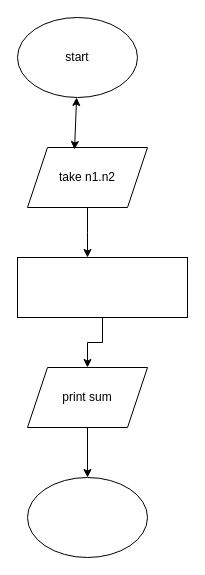
Some shapes in this 205 by 575 pixel diagram are drawn without their labels. Here are the shapes that lost their labels. From the top down, the centre of each, then its label:
At point (102, 287): "sum=n1+n2".
At point (87, 517): "end".
